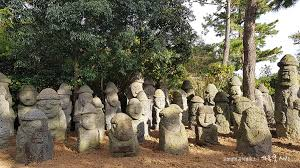Stone Statue: (255, 47, 300, 149), (8, 106, 57, 168), (28, 85, 71, 147), (186, 104, 225, 156)
